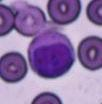L: (28, 28, 76, 79)
